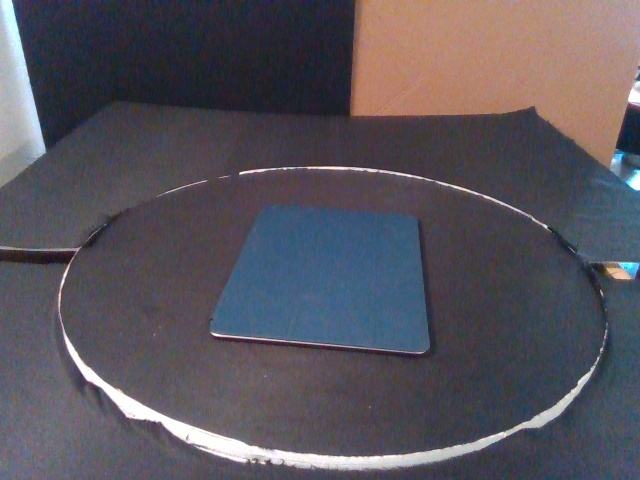laptop: (206, 204, 432, 357)
